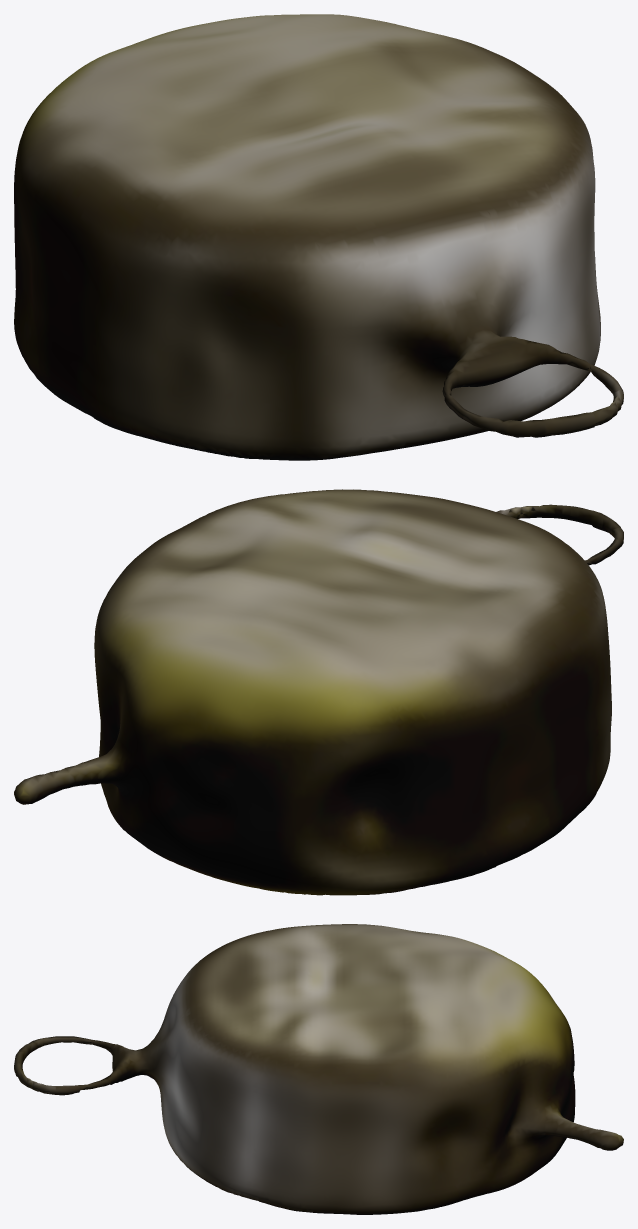
The model's file is alarm.glb.
3 renders of one model, top to bottom at view 1: azimuth 30°, elevation 25°; view 2: azimuth 150°, elevation 25°; view 3: azimuth 270°, elevation 25°, orthographic. The views are drawn at different scales.
Size of the model in its own units: 0.6163 by 0.3111 by 0.9975.
